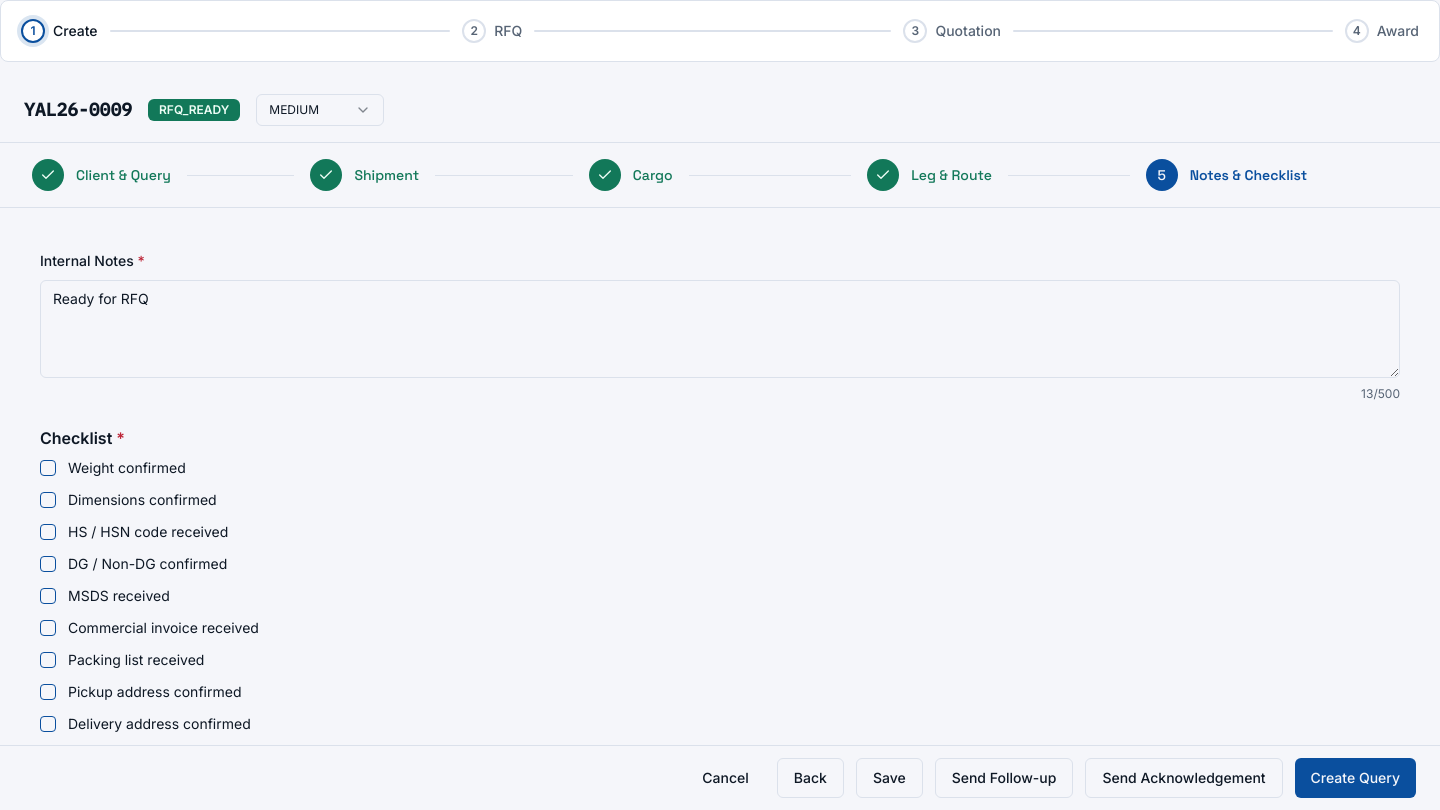
QueryWizardPage › on Create Query → 201 re-GETs and shows RFQ_READY + success banner
Click the button "Create Query": (1355, 778) [1295,758,1416,798]
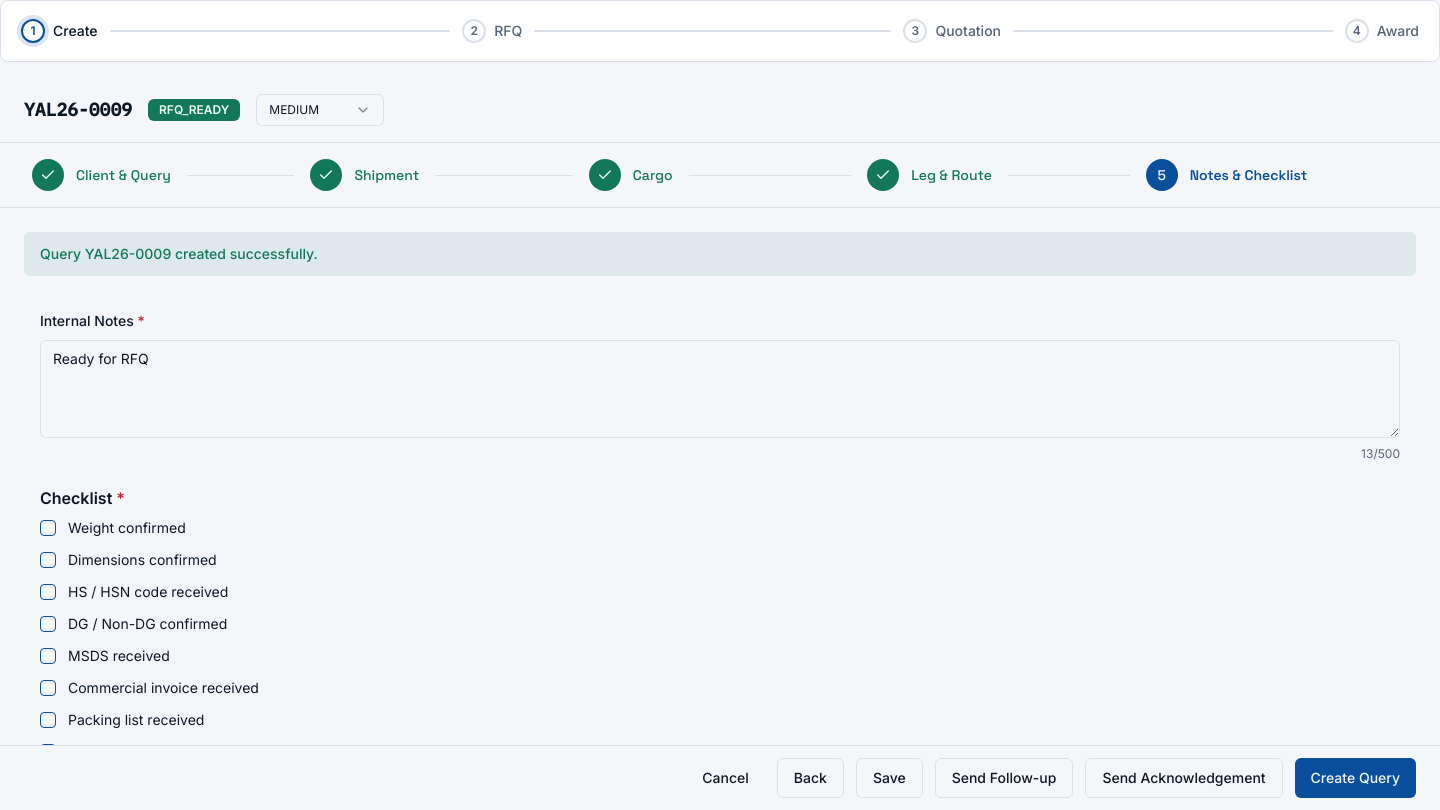
Expected: the text "RFQ_READY" is shown, [148,99,240,121]
Now the message shows "created successfully", box [40,245,318,262]
